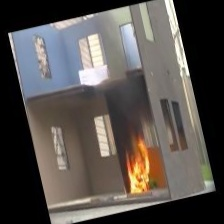fire: (117, 135, 159, 194)
smoke: (99, 72, 152, 137)
